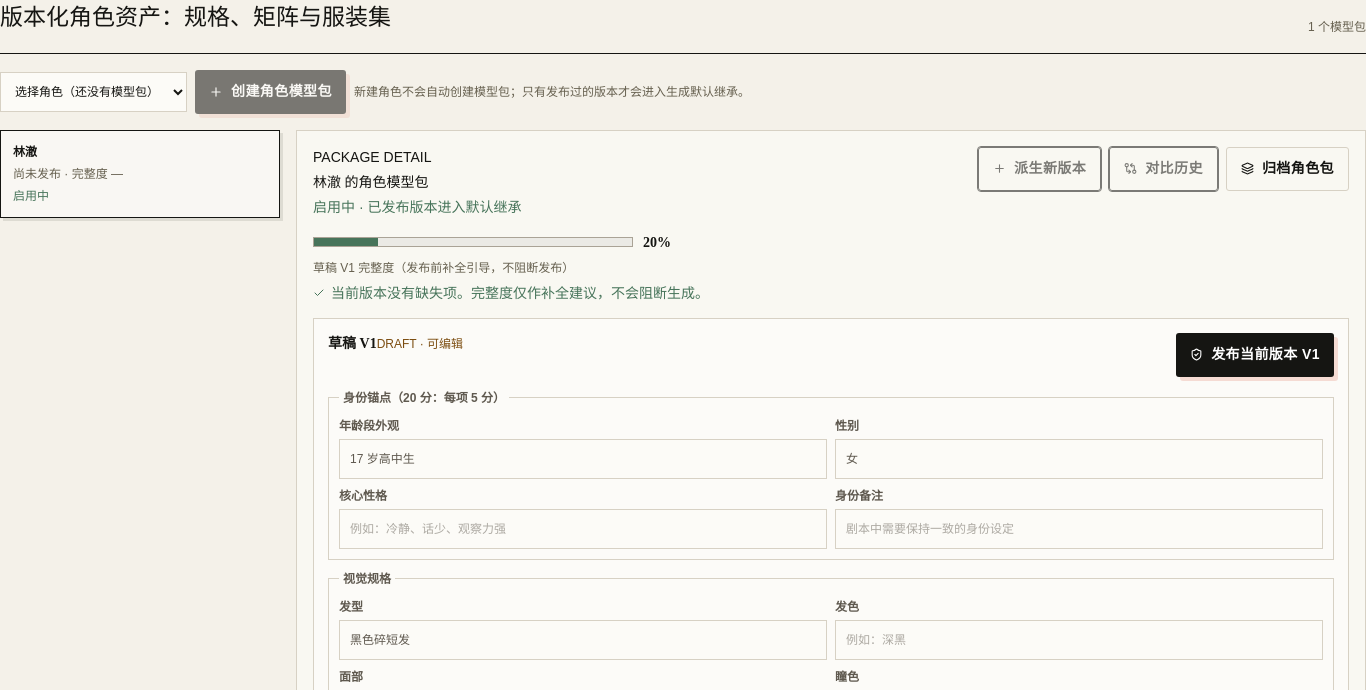
Test: CharacterPackageWorkspace › TEST-PKG-04 发布后版本冻结，派生新草稿解除锁定
Check: the button "派生新版本" is disabled, box [978,146,1101,190]
Click the button "发布当前版本 V1": click(1255, 354) [1176,332,1334,376]
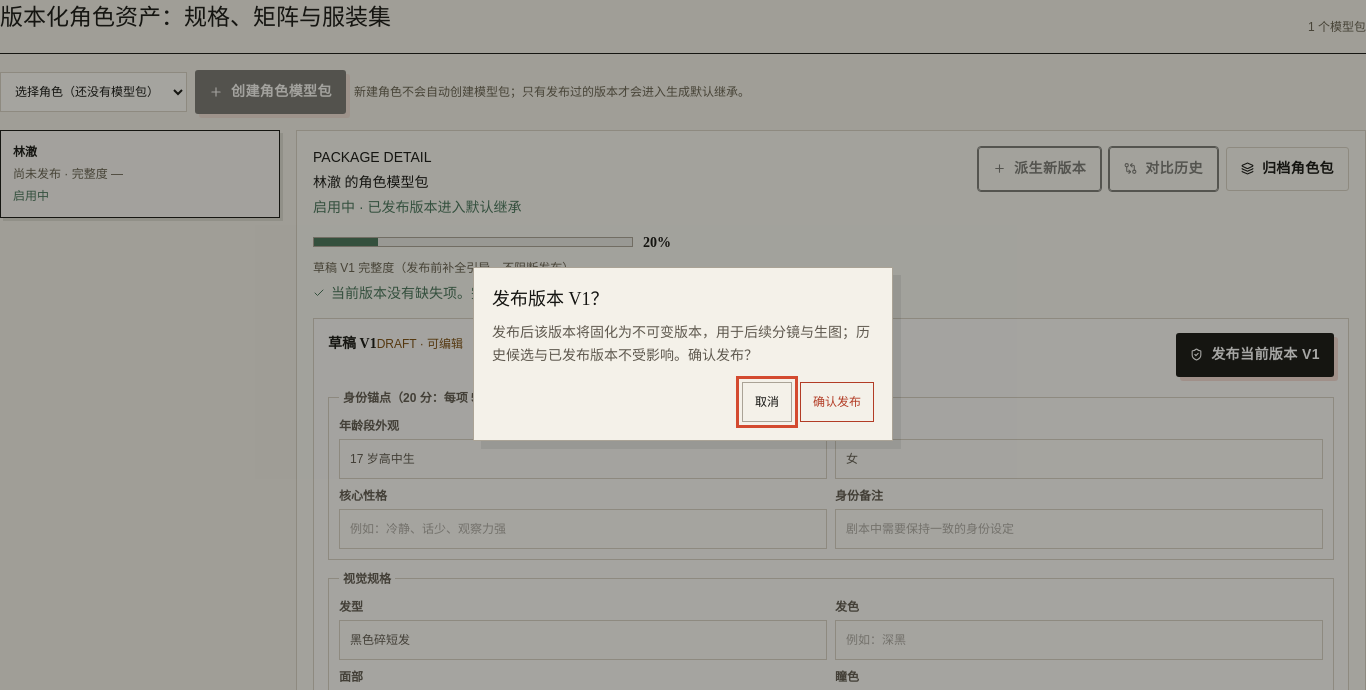
Check: the dialog "发布版本 V1？" shows "发布后该版本将固化为不可变版本", box [492,324,870,362]
Click the button "确认发布": click(837, 402) [800,382,874,422]
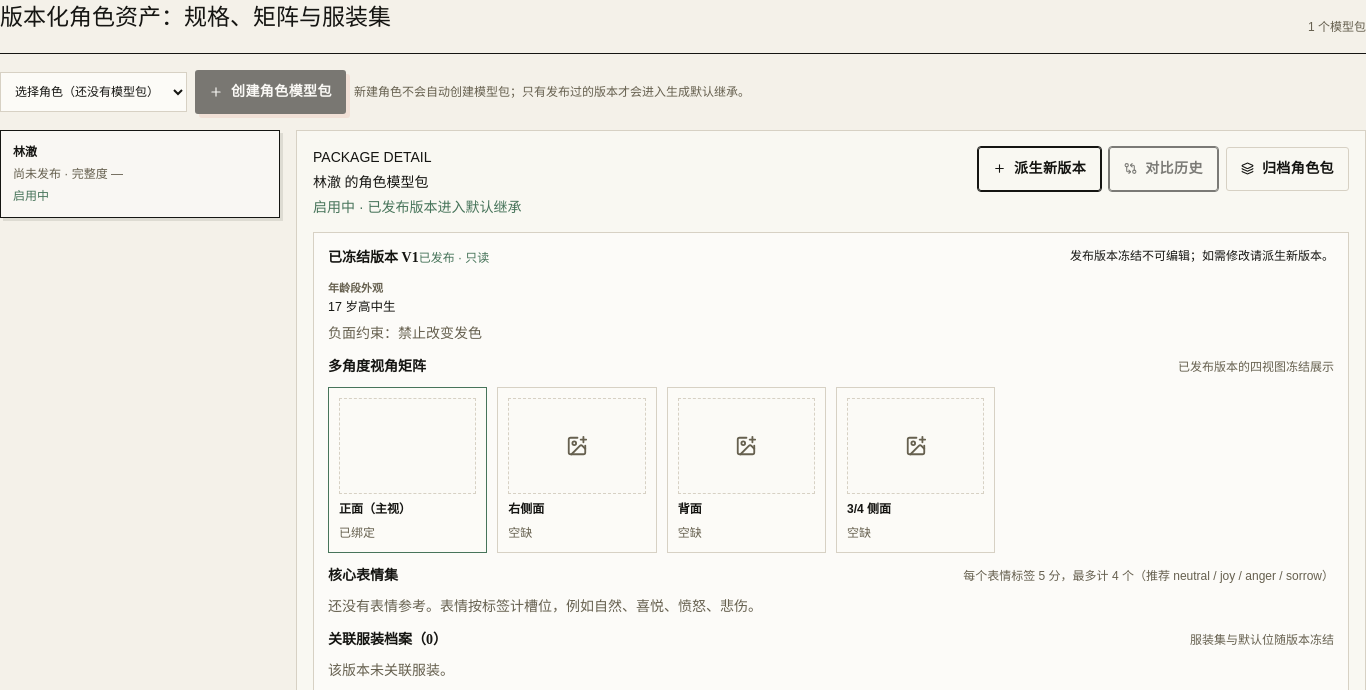
Check: the text "17 岁高中生" is shown, box [328,300,395,314]
Check: the text "负面约束：禁止改变发色" is shown, box [328,325,482,341]
Check: the button "派生新版本" is enabled
Click the button "派生新版本": click(1040, 168) [978,146,1101,190]
(page scrolled)
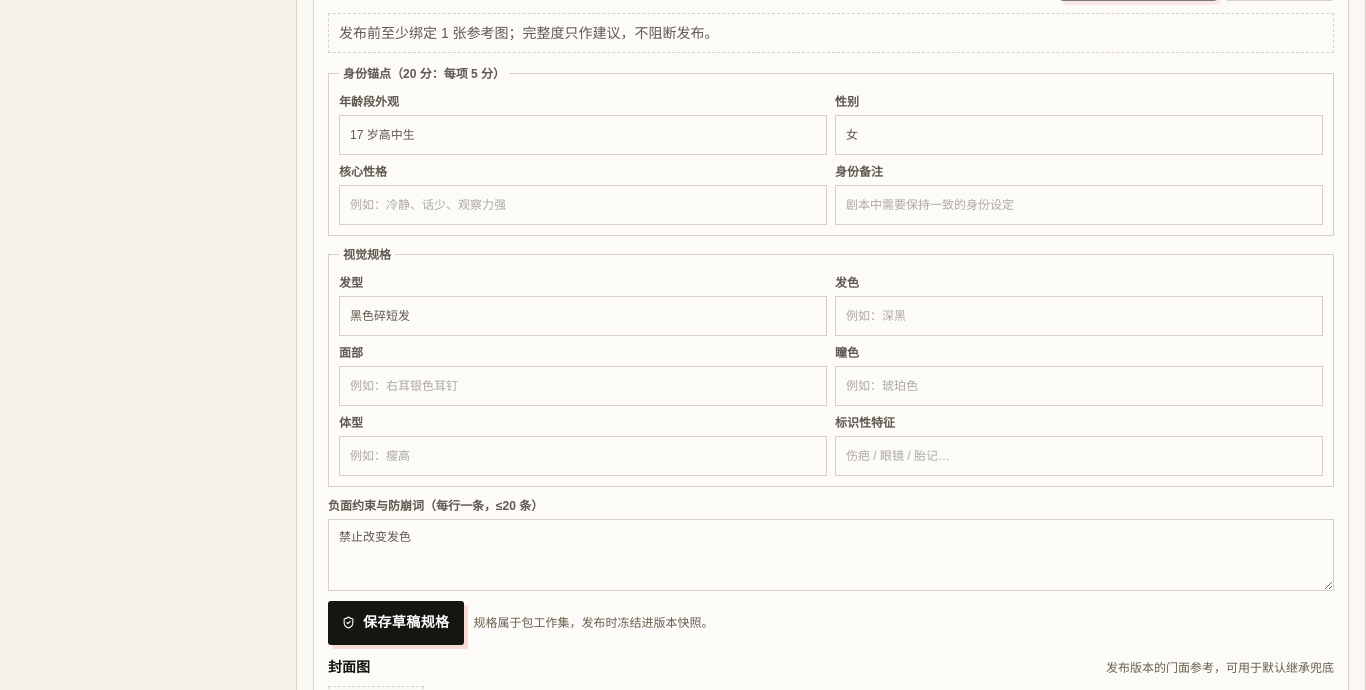
Check: the text labelled "已冻结版本 V1" is gone
Check: the form named "角色包规格工作集" is shown
